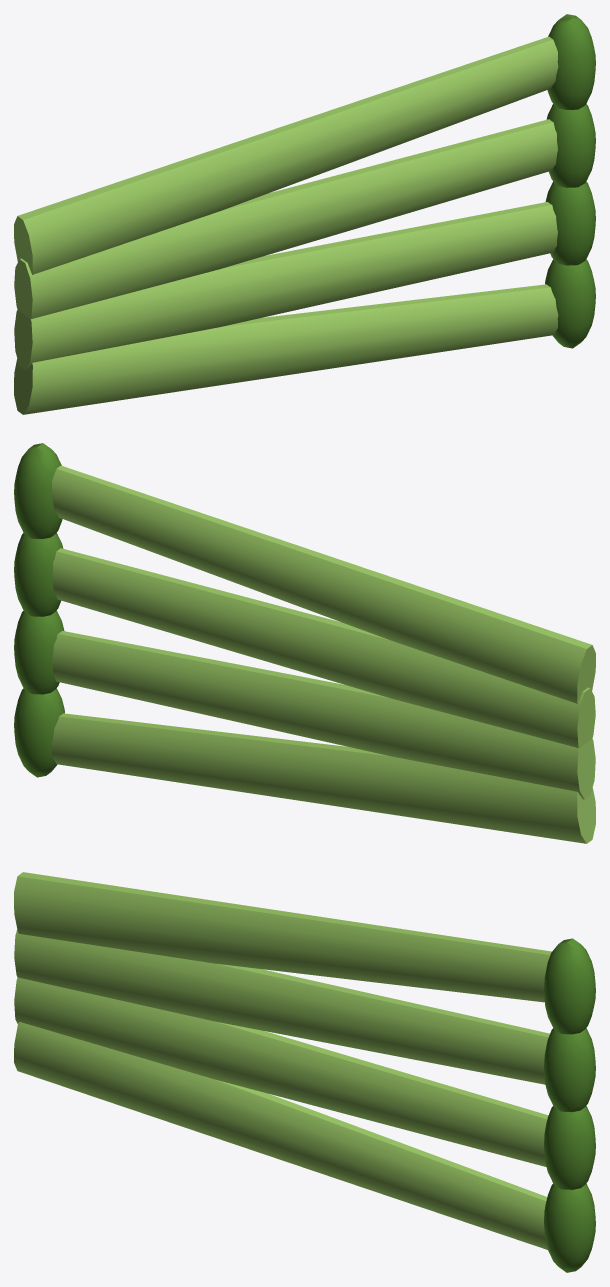
The model's file is Celery.fbx.
3 views of the same model, one above another, from view 1: azimuth 30°, elevation 25°; view 2: azimuth 150°, elevation 25°; view 3: azimuth 330°, elevation 25° (orthographic).
Parts seen in each view (by area): view 1: Celery; view 2: Celery; view 3: Celery.
Part boxes in pixels (box(x1,y1,x2,y2)): Celery: box(14, 14, 595, 414); Celery: box(14, 443, 595, 843); Celery: box(14, 872, 595, 1272).
Bounding box in the file's own units: 0.3007 × 0.1657 × 0.024.
